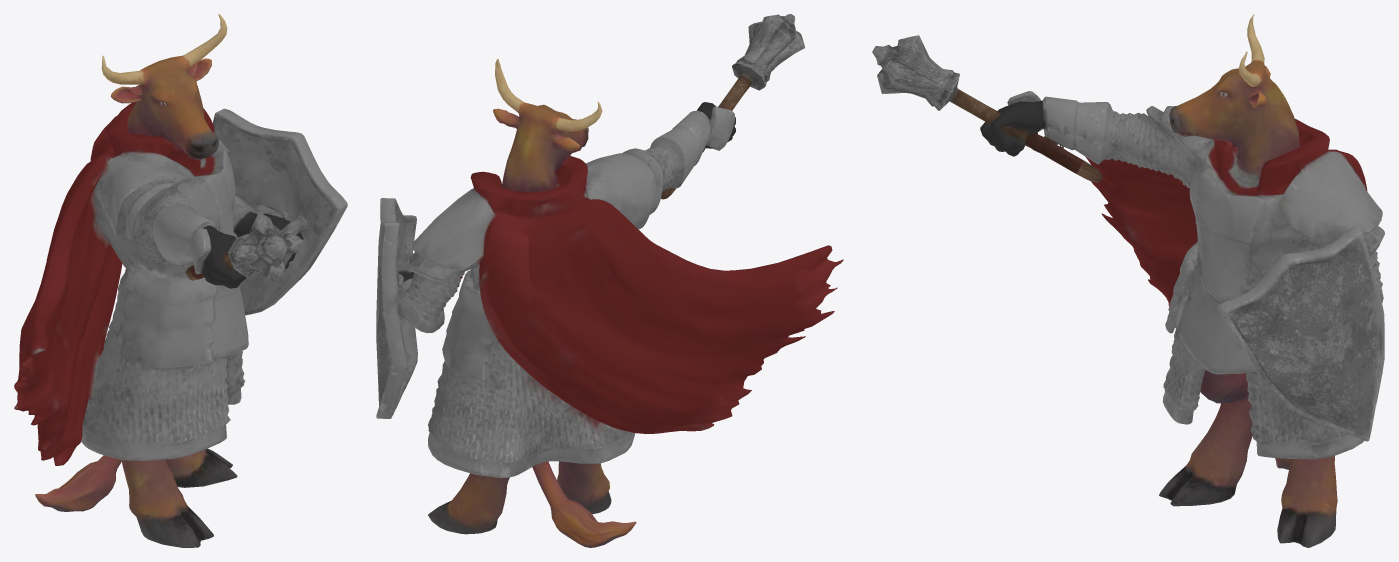
The model's file is MZ4250 - Minotaur Male Cleric.glb.
The picture shows the model from 3 angles, left to right: view 1: azimuth 30°, elevation 25°; view 2: azimuth 150°, elevation 25°; view 3: azimuth 270°, elevation 25°; orthographic projection. The views are drawn at different scales.
Visible parts, largest first — view 1: Minotaur Male Cleric_low.001; view 2: Minotaur Male Cleric_low.001; view 3: Minotaur Male Cleric_low.001.
Boxes of the visible parts, x1,y1,x2,y2 form: Minotaur Male Cleric_low.001: [14, 14, 347, 547]; Minotaur Male Cleric_low.001: [376, 14, 843, 547]; Minotaur Male Cleric_low.001: [872, 14, 1384, 547].
Size of the model in its own units: 1.79 by 2.06 by 2.01.
1 material, 1 textured.
